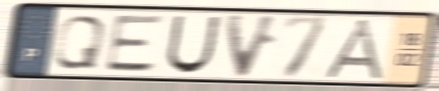7: (281, 13, 333, 82)
A: (320, 17, 389, 82)
E: (102, 14, 169, 74)
Q: (49, 13, 109, 71)
U: (163, 13, 224, 76)
V: (222, 11, 284, 81)
